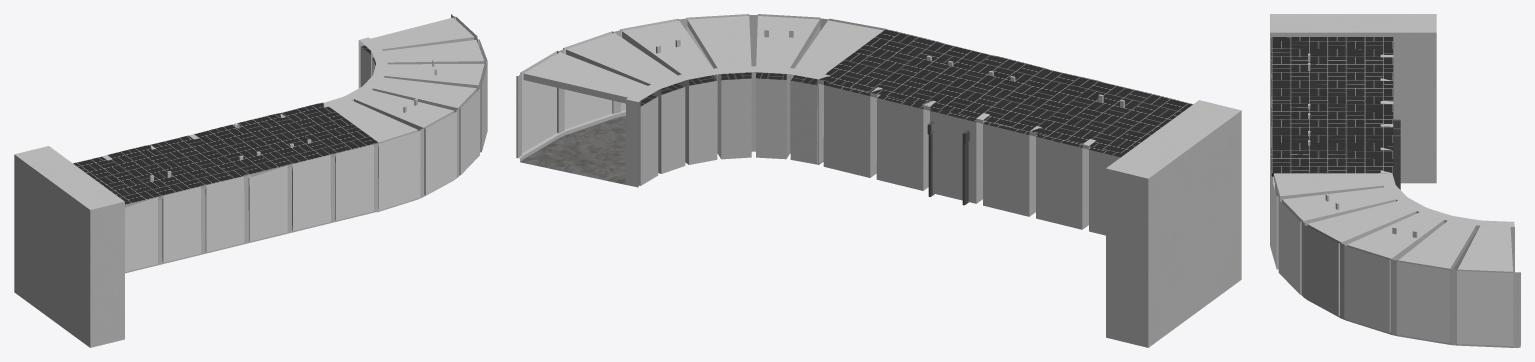
File: roomS3CTFUVfixxed.fbx
3 views of the same model, side by side, from view 1: azimuth 30°, elevation 25°; view 2: azimuth 150°, elevation 25°; view 3: azimuth 270°, elevation 25° (orthographic). The views are drawn at different scales.
Visible parts, largest first — view 1: Plane, Plane.001, Cube; view 2: Plane, Plane.001, Cube, Cylinder.002; view 3: Plane.001, Plane, Cube, Cylinder.002.
Part boxes in pixels (left/top/right/bottom): Plane: left=73, top=102, right=378, bottom=273; Plane.001: left=323, top=14, right=487, bottom=212; Cube: left=14, top=146, right=124, bottom=347; Plane: left=817, top=29, right=1192, bottom=235; Plane.001: left=516, top=14, right=887, bottom=187; Cube: left=1106, top=100, right=1241, bottom=347; Cylinder.002: left=927, top=122, right=969, bottom=205; Plane.001: left=1270, top=173, right=1520, bottom=347; Plane: left=1271, top=37, right=1393, bottom=246; Cube: left=1270, top=14, right=1436, bottom=183; Cylinder.002: left=1393, top=119, right=1400, bottom=189.
Bounding box in the file's own units: 3648 × 1021 × 1520.
